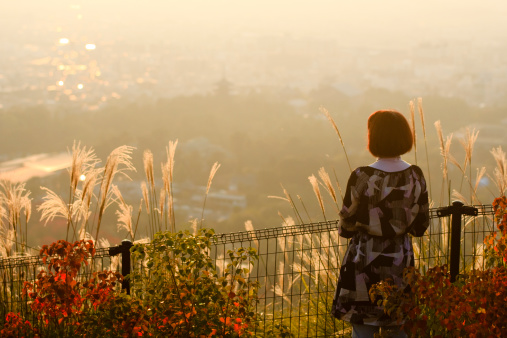em pe: (326, 113, 431, 328)
